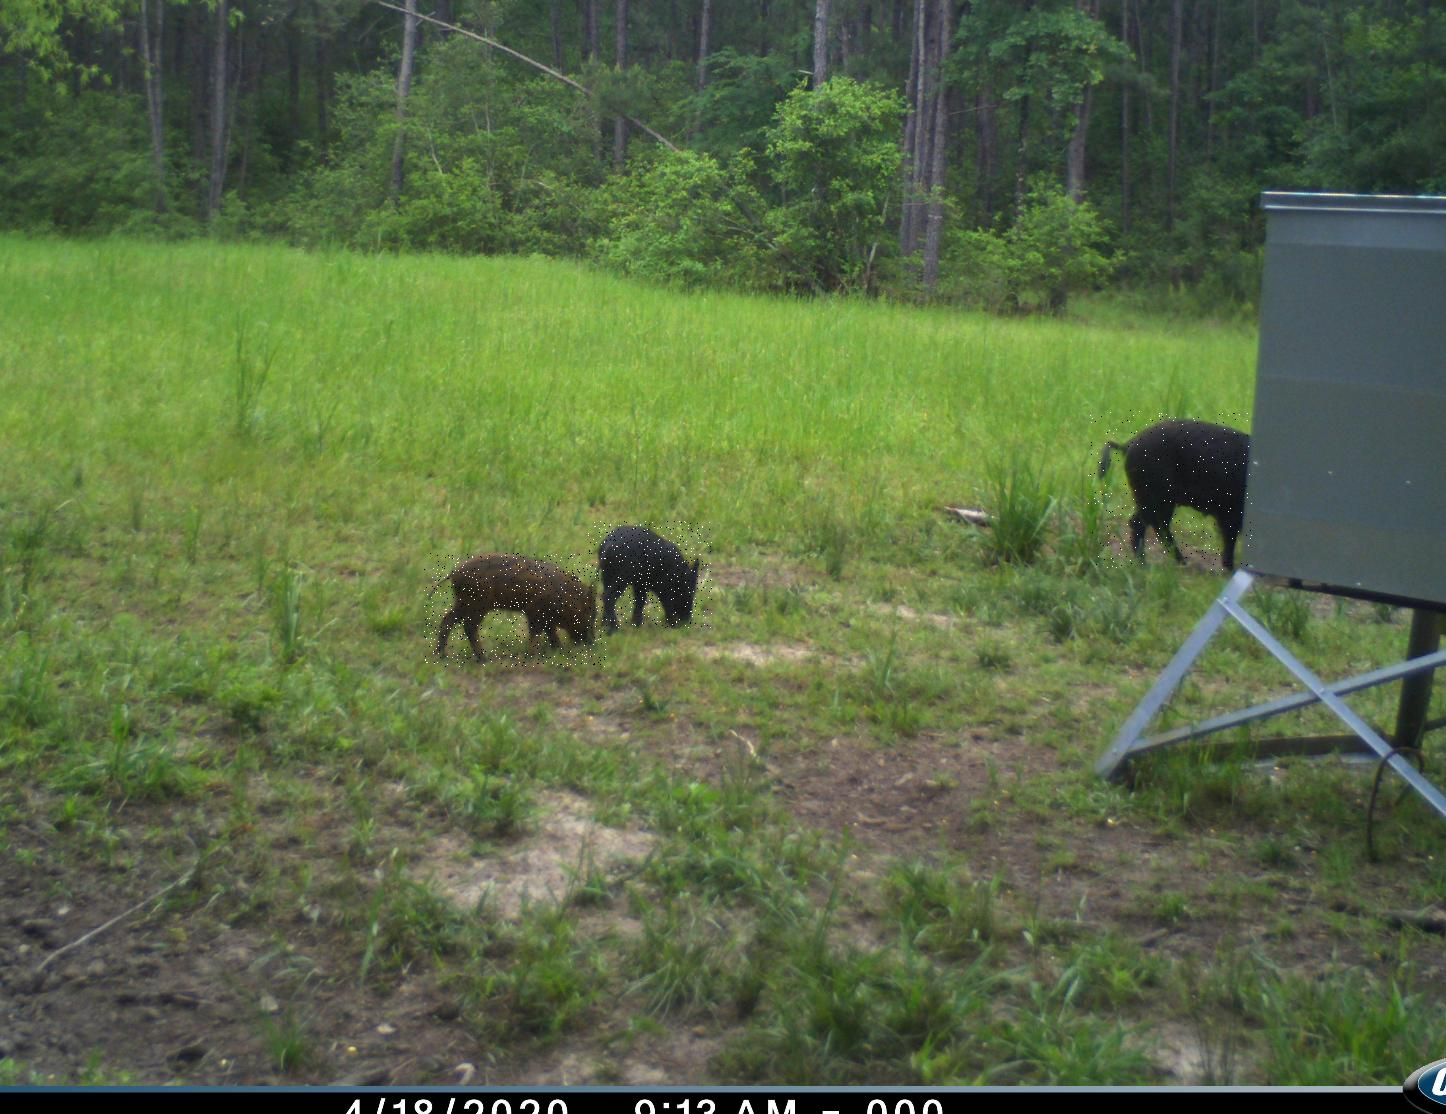Hog: (1088, 410, 1252, 570), (424, 553, 606, 667), (588, 521, 712, 627)
